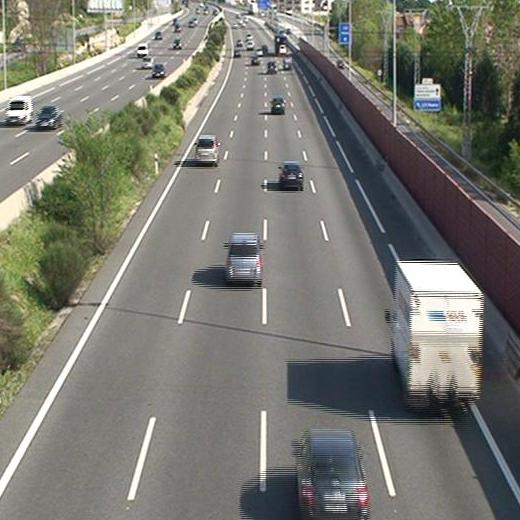car: (295, 432, 368, 516), (226, 234, 261, 282), (195, 137, 218, 163), (280, 163, 304, 187), (271, 97, 284, 113), (250, 54, 259, 65), (267, 63, 276, 73)
small-truck: (392, 261, 482, 408)
van: (284, 56, 293, 69)
